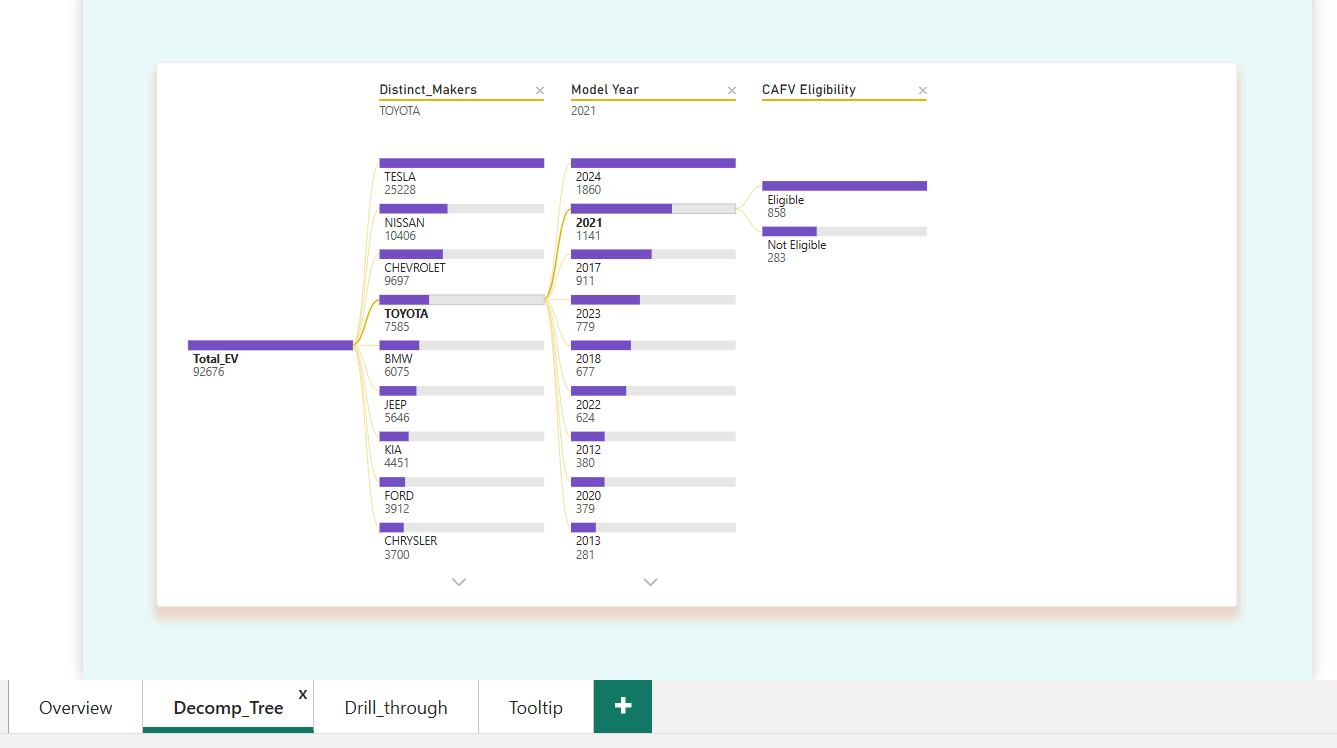

This screenshot's page, from the dashboard's own definition file:
{"tool":"powerbi","page":{"name":"Decomp_Tree","canvas":[1280,720],"ordinal":1},"visuals":[{"type":"decompositionTreeVisual","fields":{"ExplainBy":["Distinct_Makers.Distinct_Makers","EV_Dataset.Model Year","EV_Dataset.CAFV Eligibility Simple"],"Analyze":["Measure_.Total_EV"]},"box":[77,77,1126.1,567.1],"z":0}]}

Visuals, with their boxes on the page's 1280x720 design canvas (x1, y1, x2, y2). These are canvas units, not pixel positions in the 1337x748 screenshot, which may show the page scaled, cropped or inside an application window:
decompositionTreeVisual - Distinct_Makers.Distinct_Makers x EV_Dataset.Model Year: locate(77, 77, 1203, 644)
